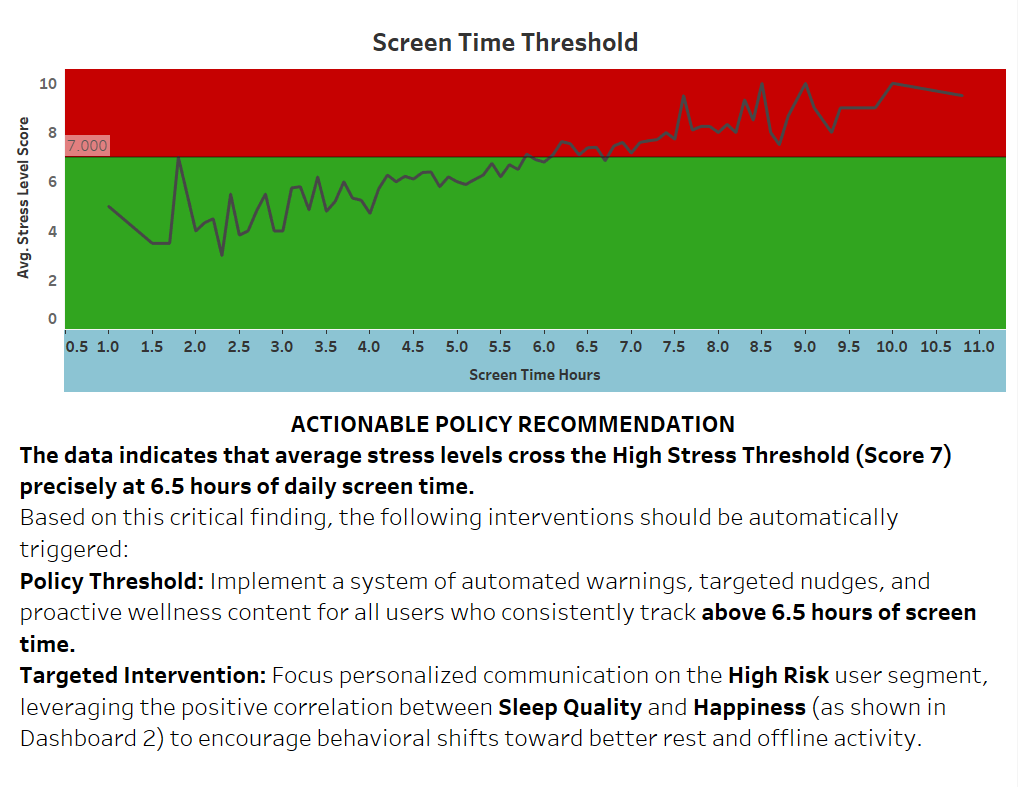

This screenshot's page, from the dashboard's own definition file:
{"tool":"tableau","page":{"name":"3. Prescriptive Recommendations","canvas":[1020,860],"ordinal":2},"visuals":[{"type":"text","box":[6,1,1008,83]},{"type":"worksheet","title":"Prescriptive - Screen Time Threshold","mark":"Line","rows":["Stress_Level_Score"],"cols":["Screen_Time_Hours"],"box":[8,86,1001,372]},{"type":"text","box":[19,468,994,362]}]}

Visuals, with their boxes on the page's 1020x860 design canvas (x1, y1, x2, y2). These are canvas units, not pixel positions in the 1018x787 screenshot, which may show the page scaled, cropped or inside an application window:
text: BBox(6, 1, 1014, 84)
"Prescriptive - Screen Time Threshold" worksheet (Line marks): BBox(8, 86, 1009, 458)
text: BBox(19, 468, 1013, 830)
